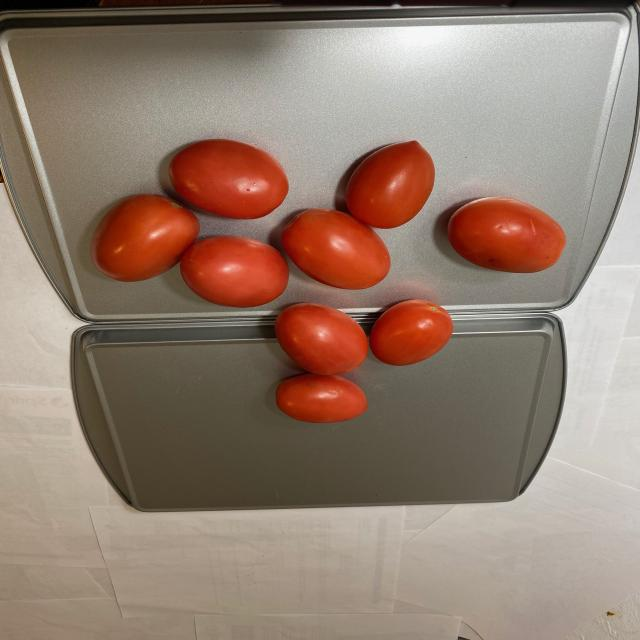tomato: (88, 140, 573, 430), (112, 142, 448, 366)
